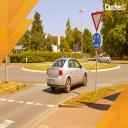preferencia: (90, 11, 104, 34)
